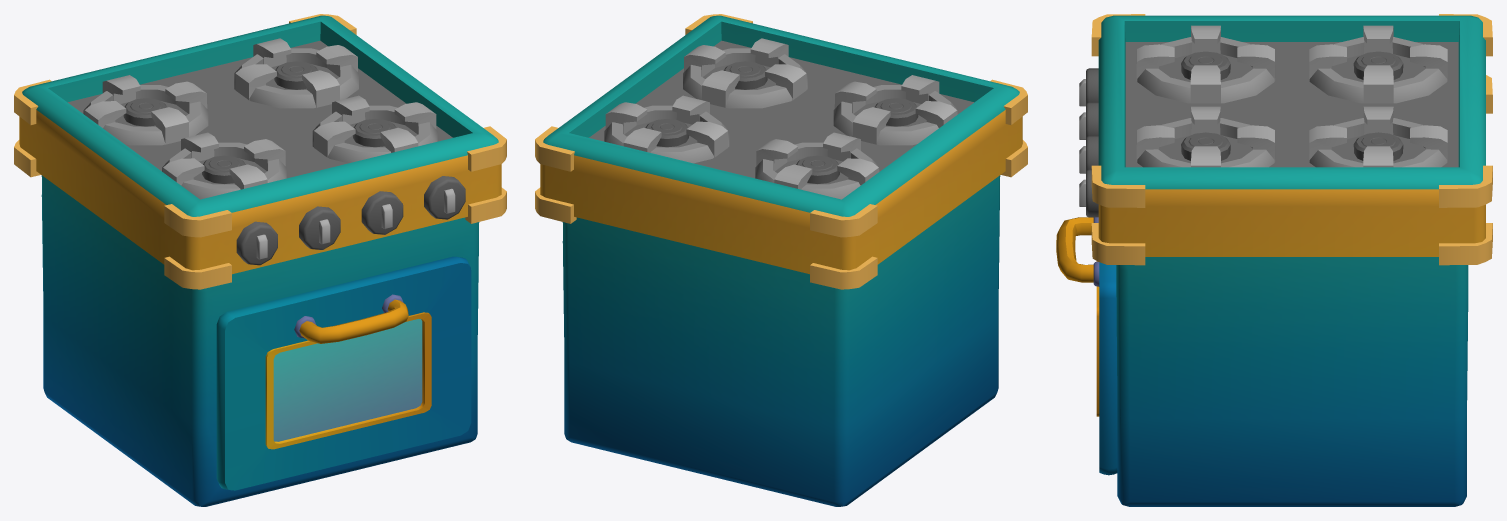
The model's file is BlueFurnace.fbx.
The picture shows the model from 3 angles, left to right: view 1: azimuth 30°, elevation 25°; view 2: azimuth 150°, elevation 25°; view 3: azimuth 270°, elevation 25°; orthographic projection. The views are drawn at different scales.
Visible parts, largest first — view 1: Furnace, FurnaceDoor; view 2: Furnace; view 3: Furnace, FurnaceDoor.
Part boxes in pixels (x1,y1,x2,y2): Furnace: (14, 14, 506, 506); FurnaceDoor: (216, 256, 471, 490); Furnace: (535, 14, 1027, 506); Furnace: (1079, 14, 1492, 506); FurnaceDoor: (1056, 217, 1117, 475).
Bounding box in the file's own units: 118 × 109 × 125.
